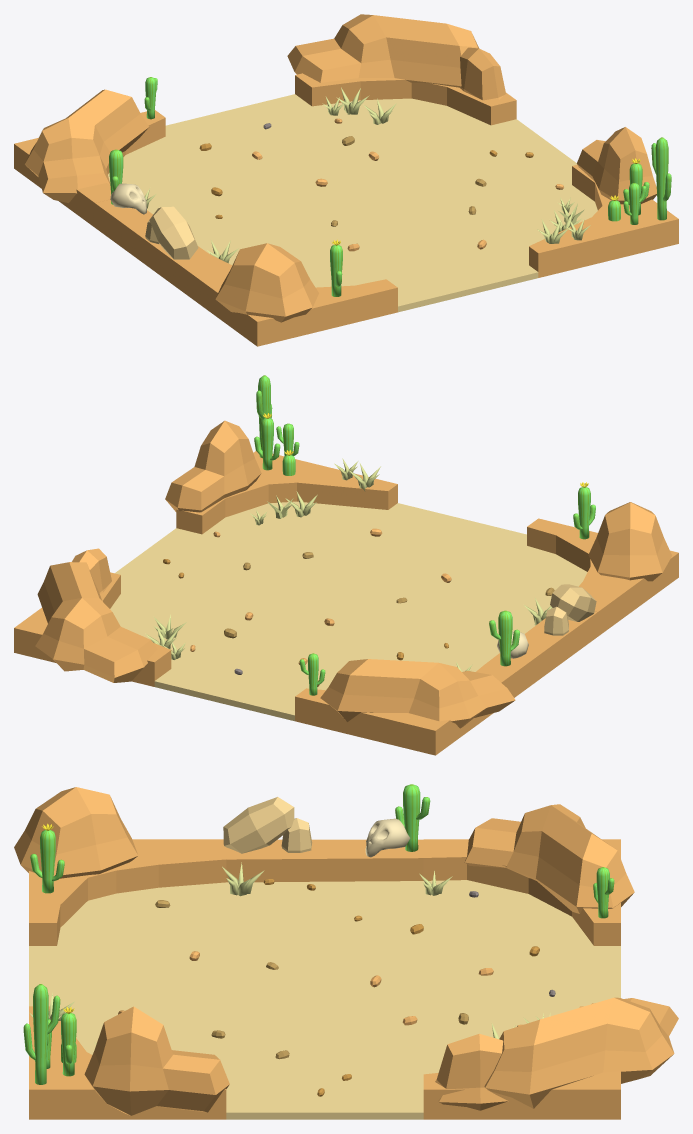
The model's file is desert level set - 3 Way (2).fbx.
3 views of the same model, one above another, from view 1: azimuth 30°, elevation 25°; view 2: azimuth 150°, elevation 25°; view 3: azimuth 270°, elevation 25° (orthographic). The views are drawn at different scales.
Parts seen in each view (by area): view 1: land_platform_001, Cube_008, Cube_004, Cube_005, Cube_009, Cube_006, Cube_007, CACTUS_002, skull_bone, CACTUS_005, CACTUS, CACTUS_006 (+1 smaller); view 2: land_platform_001, Cube_004, Cube_008, Cube_009, Cube_005, Cube_007, CACTUS_006, Cube_006, CACTUS_001, CACTUS_005, CACTUS_002, CACTUS_003; view 3: land_platform_001, Cube_008, Cube_004, Cube_009, Cube_005, Cube_006, Cube_007, CACTUS_002, CACTUS_006, CACTUS_005, skull_bone, CACTUS_001 (+2 smaller).
Part boxes in pixels (bbox=[...]): land_platform_001: bbox=[14, 73, 678, 346]; Cube_008: bbox=[287, 14, 479, 87]; Cube_004: bbox=[25, 89, 148, 203]; Cube_005: bbox=[215, 243, 318, 322]; Cube_009: bbox=[576, 127, 656, 204]; Cube_006: bbox=[460, 47, 505, 100]; Cube_007: bbox=[145, 206, 198, 259]; CACTUS_002: bbox=[651, 137, 671, 220]; skull_bone: bbox=[110, 183, 146, 214]; CACTUS_005: bbox=[330, 239, 342, 296]; CACTUS: bbox=[623, 183, 646, 224]; CACTUS_006: bbox=[109, 149, 123, 204]; land_platform_001: bbox=[14, 451, 678, 755]; Cube_004: bbox=[320, 659, 515, 728]; Cube_008: bbox=[35, 562, 157, 682]; Cube_009: bbox=[165, 420, 261, 512]; Cube_005: bbox=[588, 502, 672, 581]; Cube_007: bbox=[544, 584, 596, 635]; CACTUS_006: bbox=[489, 610, 519, 666]; Cube_006: bbox=[72, 548, 111, 594]; CACTUS_001: bbox=[254, 413, 280, 470]; CACTUS_005: bbox=[573, 482, 595, 539]; CACTUS_002: bbox=[256, 375, 272, 458]; CACTUS_003: bbox=[299, 653, 325, 695]; land_platform_001: bbox=[29, 839, 620, 1119]; Cube_008: bbox=[484, 997, 678, 1108]; Cube_004: bbox=[464, 804, 634, 913]; Cube_009: bbox=[84, 1006, 229, 1115]; Cube_005: bbox=[14, 787, 138, 878]; Cube_006: bbox=[435, 1033, 508, 1110]; Cube_007: bbox=[223, 797, 312, 853]; CACTUS_002: bbox=[23, 984, 60, 1084]; CACTUS_006: bbox=[395, 784, 430, 851]; CACTUS_005: bbox=[30, 823, 64, 893]; skull_bone: bbox=[365, 818, 410, 857]; CACTUS_001: bbox=[61, 1007, 76, 1076].
Size of the model in its own units: 16.66 by 3.87 by 17.05.
